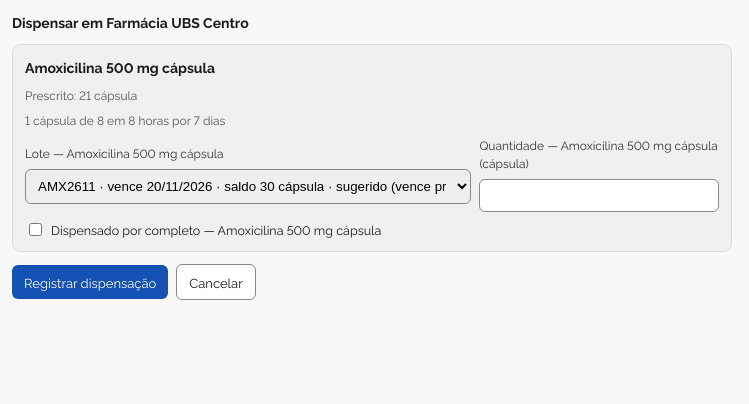
Scenario: DispenseForm › receita cancelada enquanto dispensava: frase e nova busca
Type "21" into the field labelled "Quantidade — Amoxicilina 500 mg cápsula (cápsula)" at (599, 196), box [479,179,719,212]
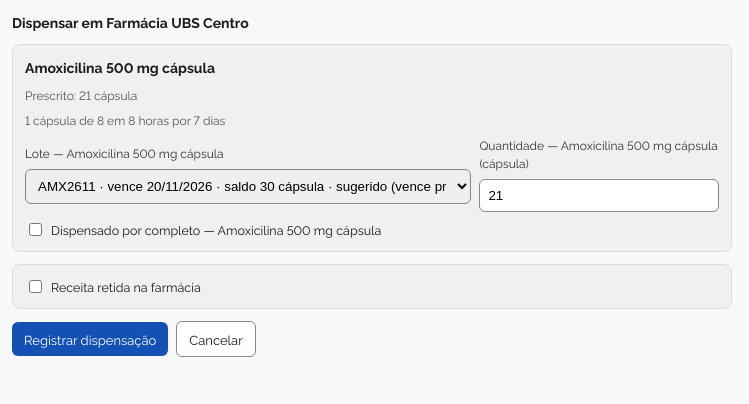
Click the checkbox labelled "Receita retida na farmácia" at (36, 287), box [29,280,42,293]
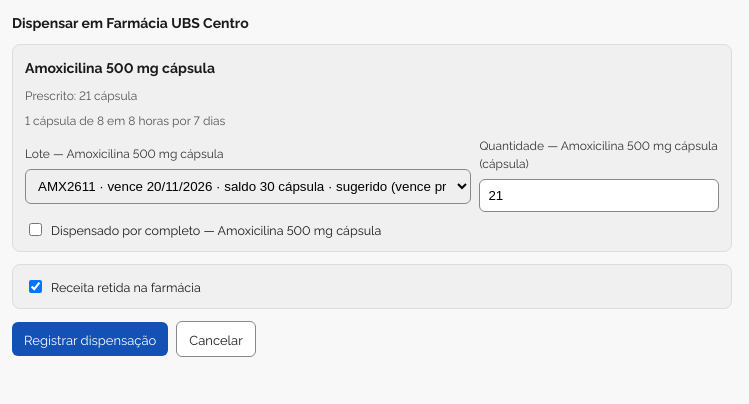
Click the button "Registrar dispensação" at (90, 339), box [12,322,168,356]
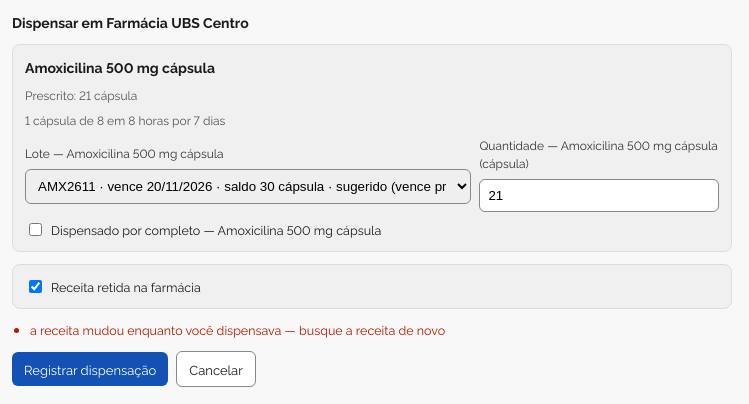
Check: the list item "a receita mudou enquanto você dispensava — busque a receita de novo" is shown, box [30,321,445,338]
